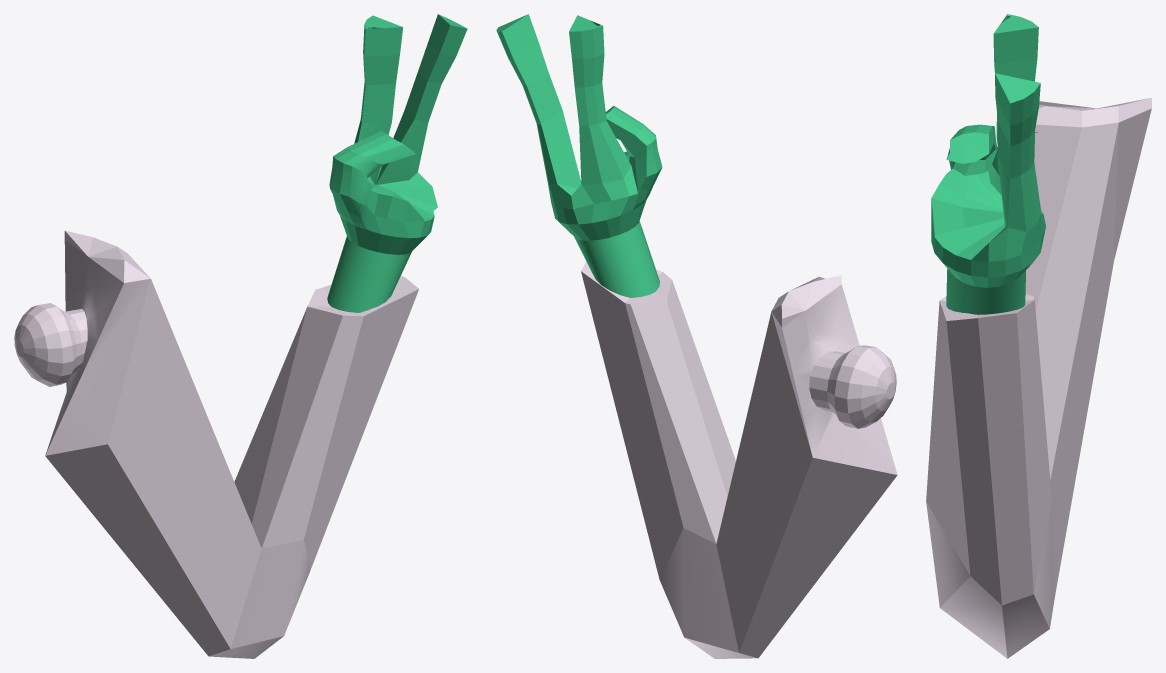
Rendered from alien_bras.fbx.
The picture shows the model from 3 angles, left to right: view 1: azimuth 30°, elevation 25°; view 2: azimuth 150°, elevation 25°; view 3: azimuth 270°, elevation 25°; orthographic projection. The views are drawn at different scales.
Visible parts, largest first — view 1: bras_gauche; view 2: bras_gauche; view 3: bras_gauche.
Boxes of the visible parts, x1,y1,x2,y2 form: bras_gauche: (14, 14, 467, 658); bras_gauche: (496, 14, 897, 658); bras_gauche: (926, 14, 1151, 658).
Bounding box in the file's own units: 1.88 × 2.58 × 0.7452.
